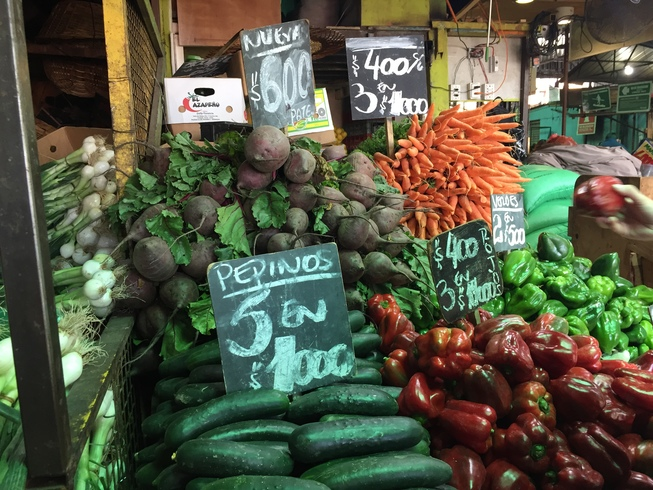precio: (211, 255, 362, 392), (240, 24, 319, 128), (345, 33, 429, 121), (434, 224, 503, 311), (489, 193, 533, 253)
